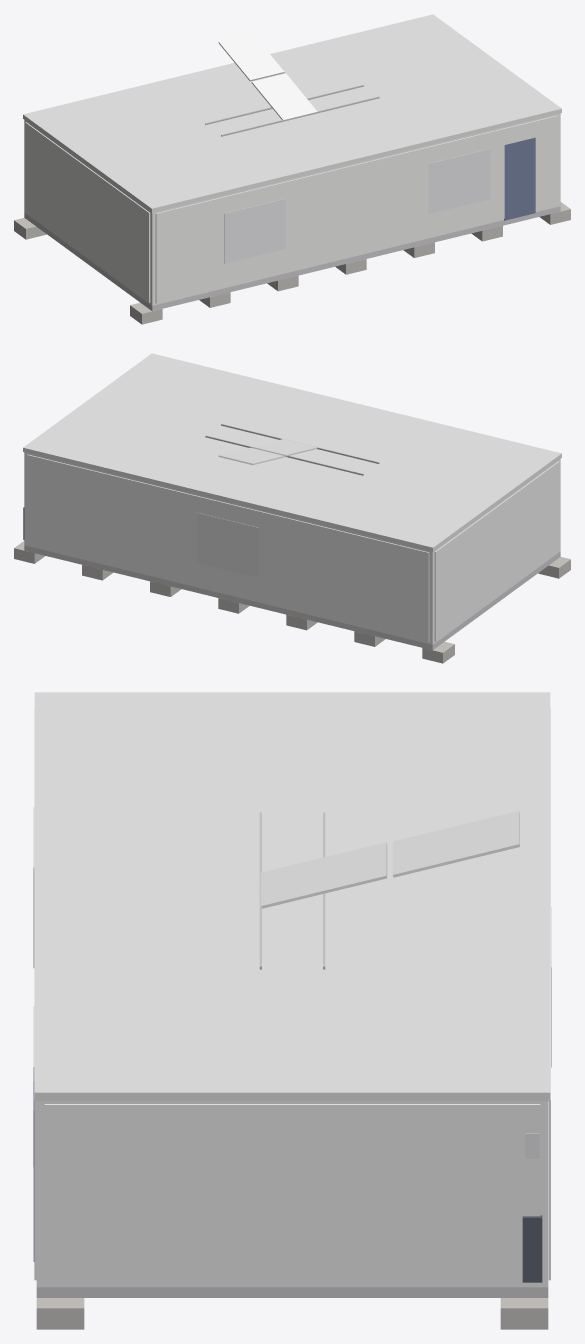
The model's file is Studio-40-Premium+FullSolar-LOD1.glb.
3 renders of one model, top to bottom at view 1: azimuth 30°, elevation 25°; view 2: azimuth 150°, elevation 25°; view 3: azimuth 270°, elevation 25°, orthographic. The views are drawn at different scales.
Visible parts, largest first — view 1: RoofMain, ExteriorPanelsPremium, WindowsLargeUpgrade, SolarPanelArray, BaseFrame, ExteriorShell, FoundationBlocks, EntryDoor, SolarMountingHardware; view 2: RoofMain, ExteriorPanelsPremium, BaseFrame, WindowsLargeUpgrade, ExteriorShell, FoundationBlocks, SolarPanelArray, SolarMountingHardware; view 3: RoofMain, ExteriorPanelsPremium, SolarPanelArray, ExteriorShell, BaseFrame, FoundationBlocks, SolarBattery, SolarMountingHardware.
Part boxes in pixels (x1,y1,x2,y2): RoofMain: (23, 14, 561, 212); ExteriorPanelsPremium: (25, 115, 557, 303); WindowsLargeUpgrade: (224, 148, 490, 263); SolarPanelArray: (218, 33, 317, 119); BaseFrame: (24, 206, 560, 311); ExteriorShell: (24, 113, 560, 305); FoundationBlocks: (14, 202, 570, 324); EntryDoor: (504, 137, 535, 220); SolarMountingHardware: (205, 85, 379, 136); RoofMain: (23, 353, 561, 551); ExteriorPanelsPremium: (27, 454, 559, 642); BaseFrame: (24, 545, 560, 650); WindowsLargeUpgrade: (197, 512, 258, 577); ExteriorShell: (24, 452, 560, 644); FoundationBlocks: (14, 541, 570, 663); SolarPanelArray: (218, 439, 317, 465); SolarMountingHardware: (205, 424, 379, 475); RoofMain: (34, 692, 550, 1101); ExteriorPanelsPremium: (34, 708, 550, 1284); SolarPanelArray: (260, 811, 519, 908); ExteriorShell: (36, 1101, 548, 1287); BaseFrame: (36, 1287, 548, 1297); FoundationBlocks: (36, 1298, 548, 1329); SolarBattery: (522, 1215, 542, 1282); SolarMountingHardware: (259, 812, 325, 969).
Bounding box in the file's own units: 12.49 × 4.07 × 6.53.
